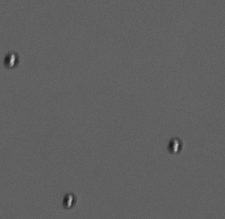Living Cell: (166, 136, 184, 155), (3, 51, 21, 69), (61, 192, 78, 209)
